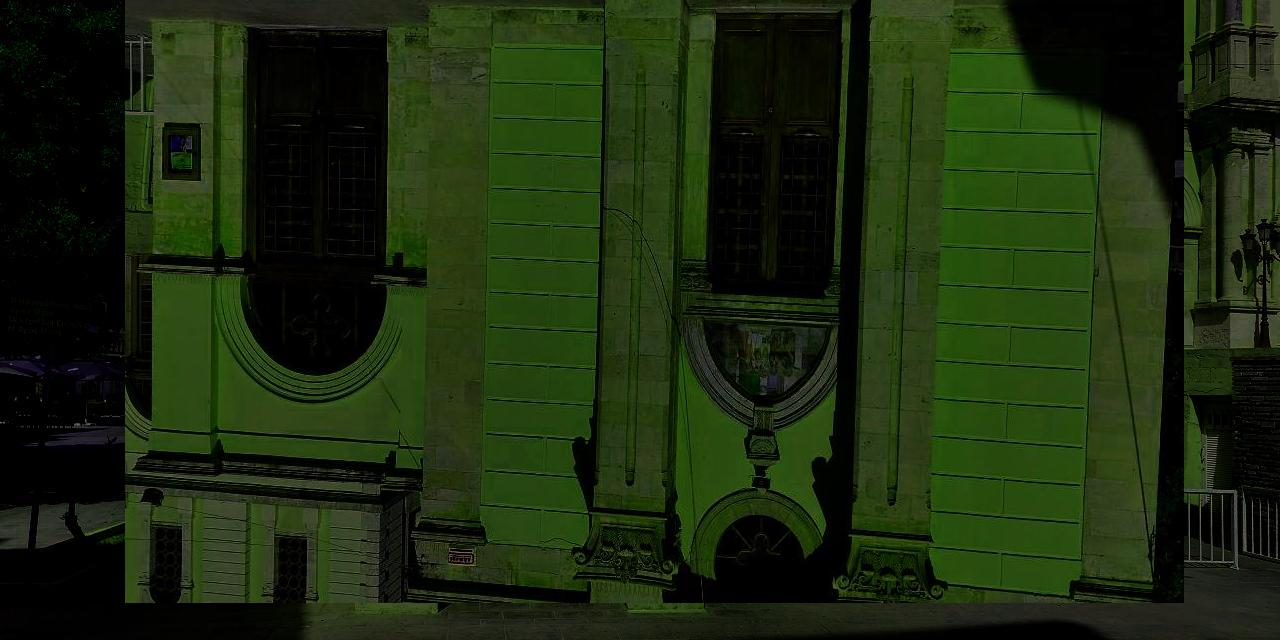Agios Minas: (126, 1, 1185, 604)
